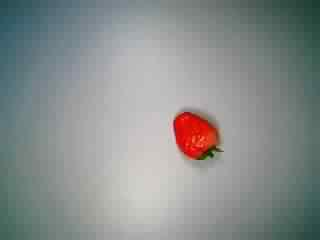strawberry: (160, 100, 226, 166)
